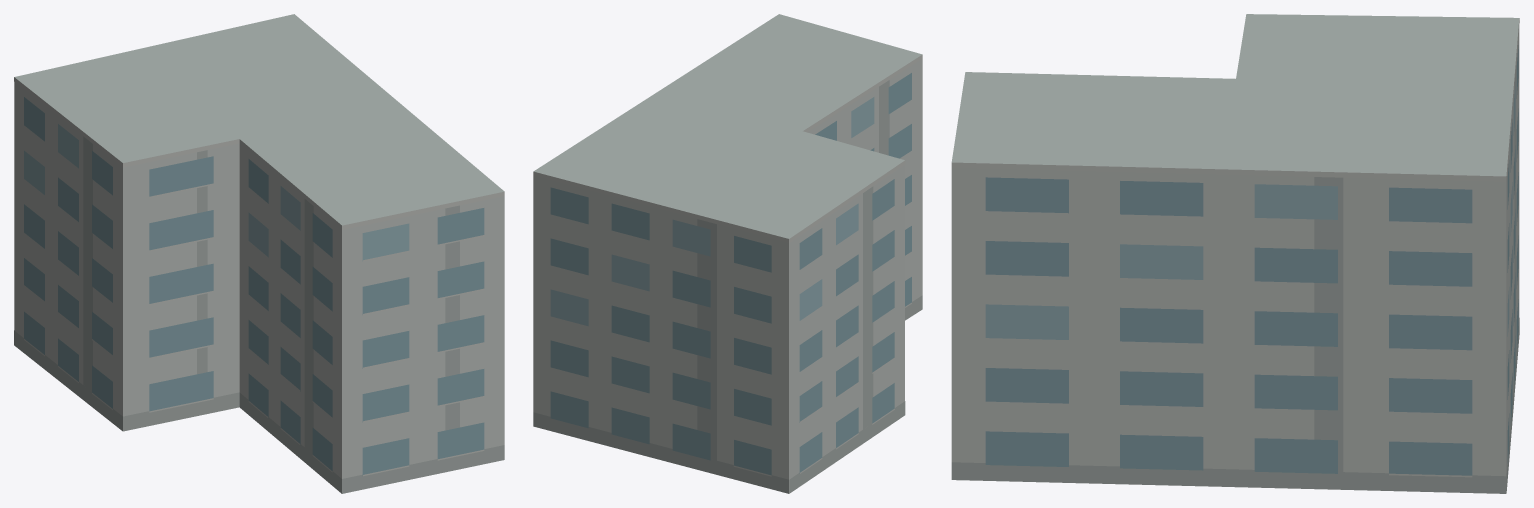
The model's file is survey-upis-32831210.glb.
3 views of the same model, side by side, from view 1: azimuth 30°, elevation 25°; view 2: azimuth 150°, elevation 25°; view 3: azimuth 270°, elevation 25° (orthographic). The views are drawn at different scales.
Visible parts, largest first — view 1: survey-upis-32831210.tmp; view 2: survey-upis-32831210.tmp; view 3: survey-upis-32831210.tmp.
Boxes of the visible parts, <box> form: survey-upis-32831210.tmp: <box>14,14,504,493</box>; survey-upis-32831210.tmp: <box>533,14,922,493</box>; survey-upis-32831210.tmp: <box>951,14,1519,493</box>.
Bounding box in the file's own units: 15.92 × 14.5 × 23.51.
